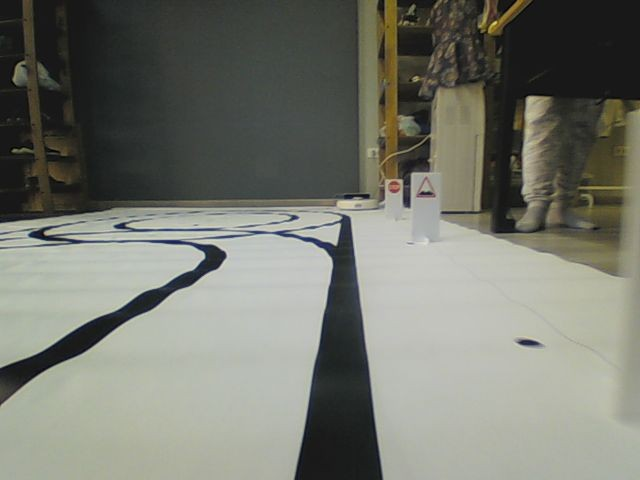Nerov: (413, 175, 437, 198)
